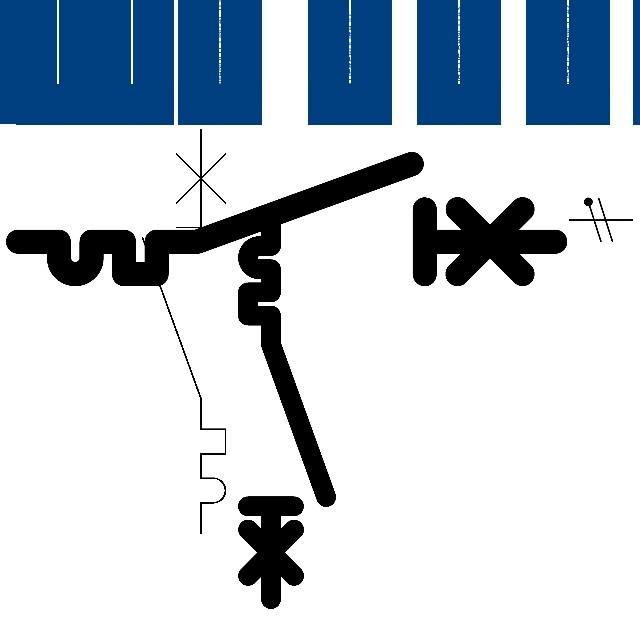interruptor_termomagnetico: (4, 150, 569, 288), (132, 119, 236, 544), (238, 207, 336, 609)
